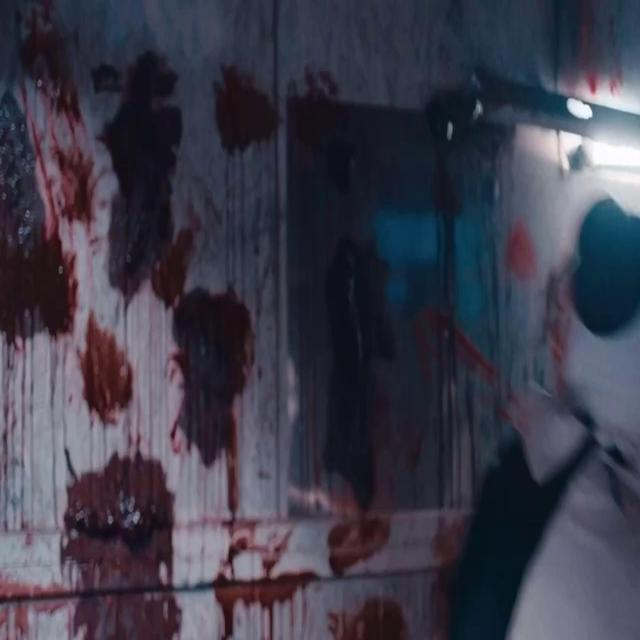flood: (56, 453, 182, 640), (100, 46, 174, 312), (0, 93, 78, 343)
